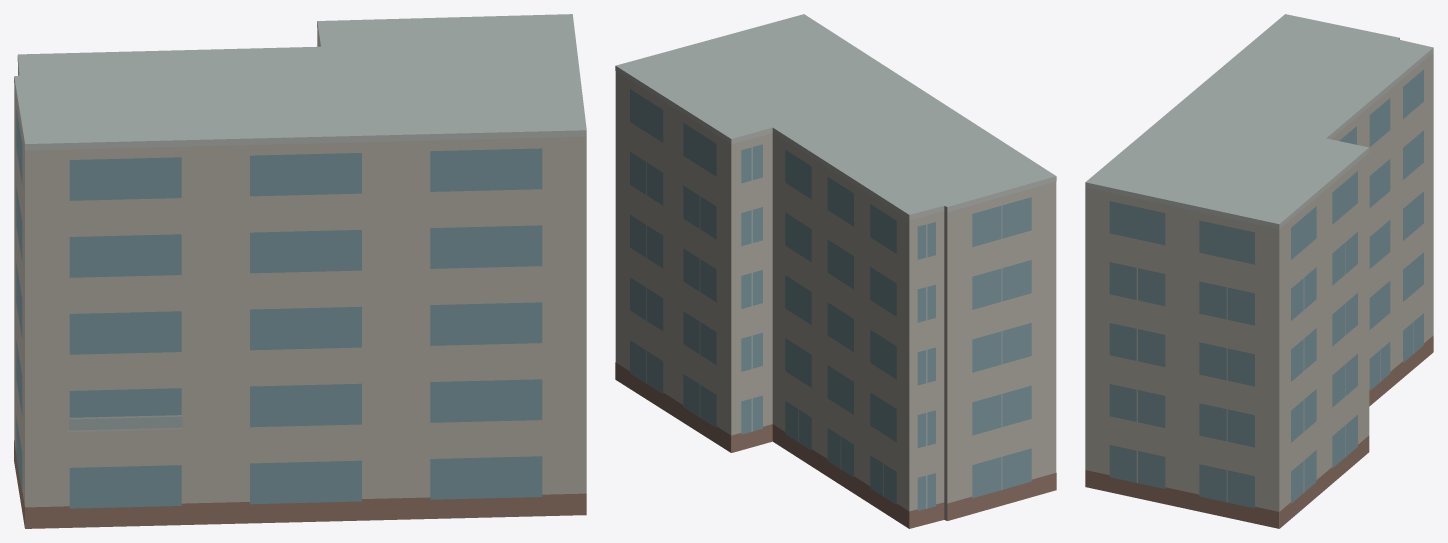
File: survey-upis-32999950.glb
3 renders of one model, left to right at view 1: azimuth 30°, elevation 25°; view 2: azimuth 150°, elevation 25°; view 3: azimuth 270°, elevation 25°, orthographic. The views are drawn at different scales.
Visible parts, largest first — view 1: survey-upis-32999950.tmp; view 2: survey-upis-32999950.tmp; view 3: survey-upis-32999950.tmp.
Part boxes in pixels (x1,y1,x2,y2): survey-upis-32999950.tmp: (14,14,586,528); survey-upis-32999950.tmp: (615,14,1056,528); survey-upis-32999950.tmp: (1085,14,1433,528).
Size of the model in its own units: 21.46 by 14.5 by 15.04.
